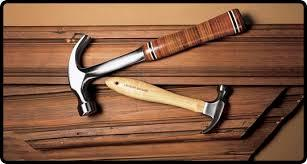hammer: (65, 6, 247, 116), (103, 74, 233, 135)
